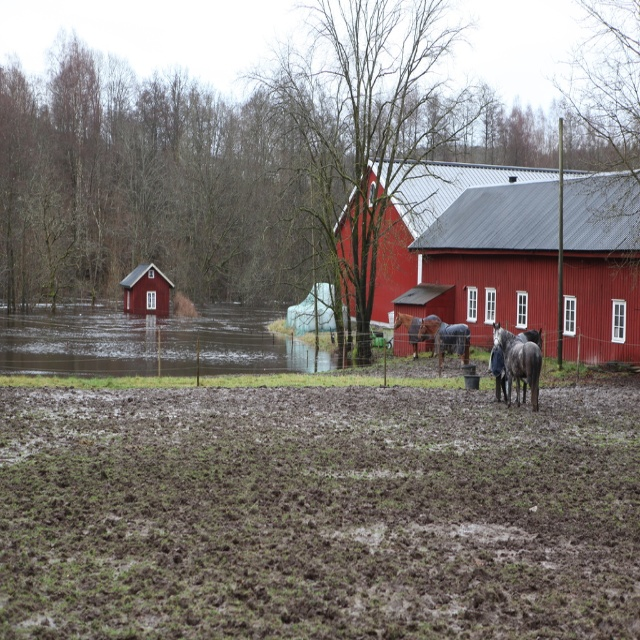Horse: (394, 311, 543, 412)
